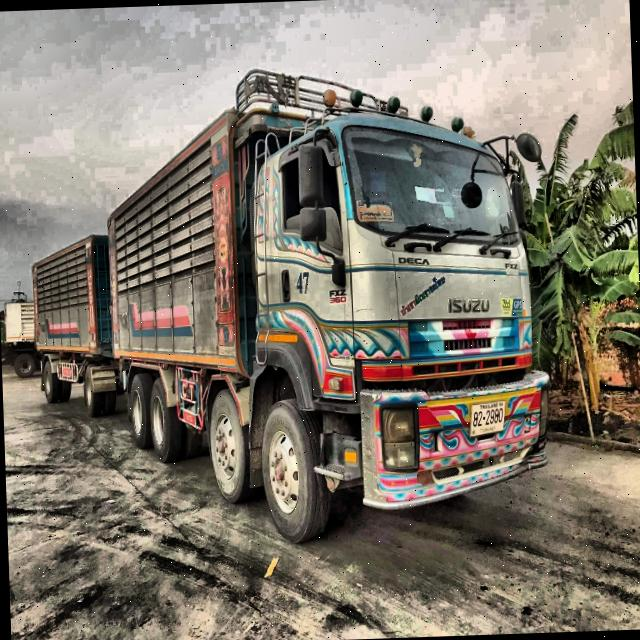trailer: (24, 58, 558, 558)
